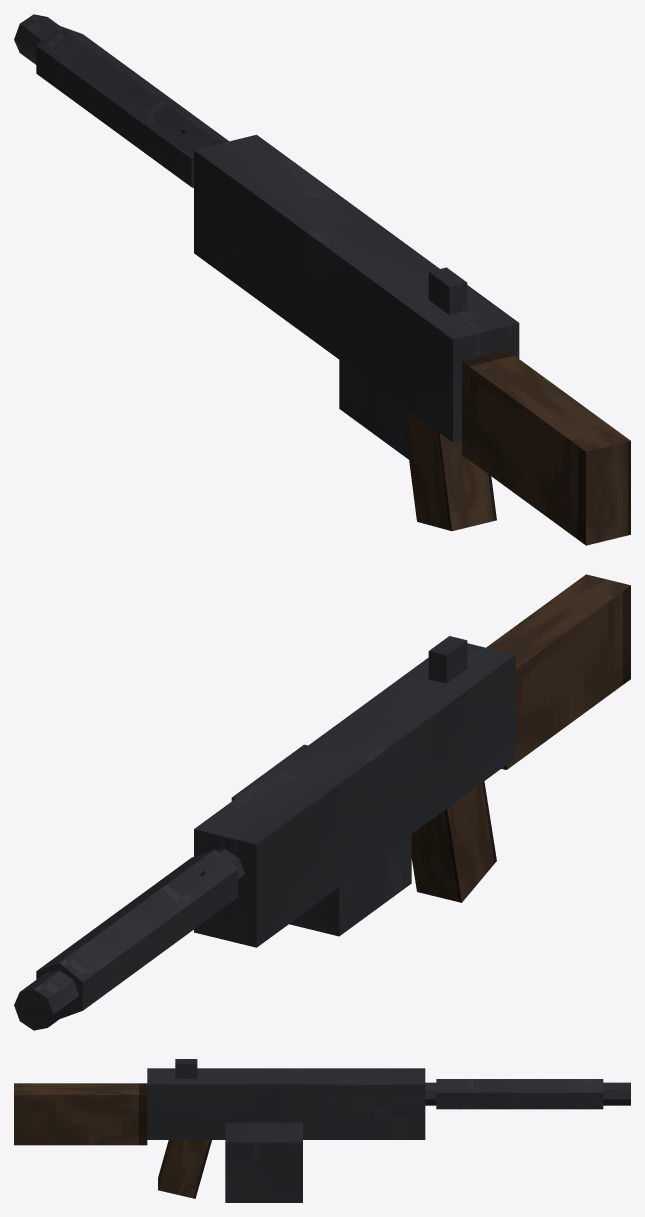
The model's file is gun_lmg.glb.
The picture shows the model from 3 angles, top to bottom: view 1: azimuth 30°, elevation 25°; view 2: azimuth 150°, elevation 25°; view 3: azimuth 270°, elevation 25°; orthographic projection. The views are drawn at different scales.
Visible parts, largest first — view 1: Gun_lmg; view 2: Gun_lmg; view 3: Gun_lmg.
Part boxes in pixels (box(x1,y1,x2,y2)): Gun_lmg: box(14, 14, 630, 545); Gun_lmg: box(14, 574, 630, 1030); Gun_lmg: box(14, 1059, 630, 1202).
Size of the model in its own units: 0.155 by 0.2615 by 1.11.
2 materials, 2 textured.
